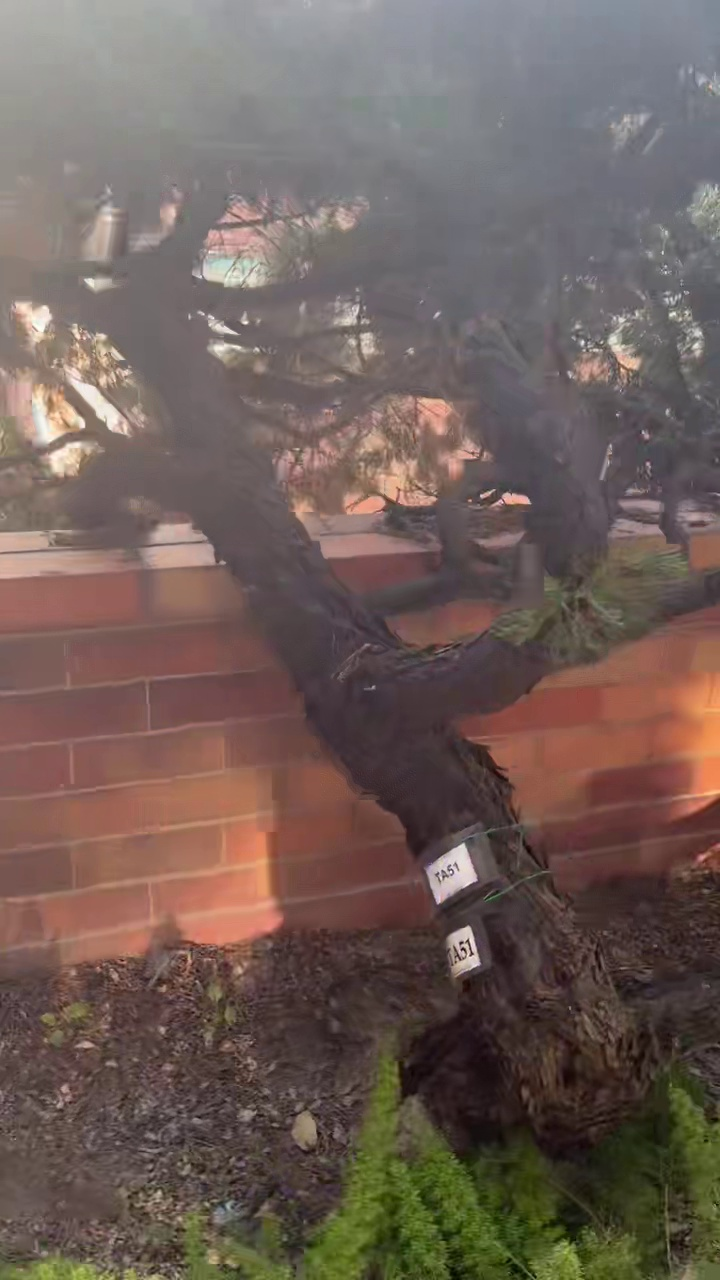Juniperus chinensis: (0, 0, 719, 1146)
